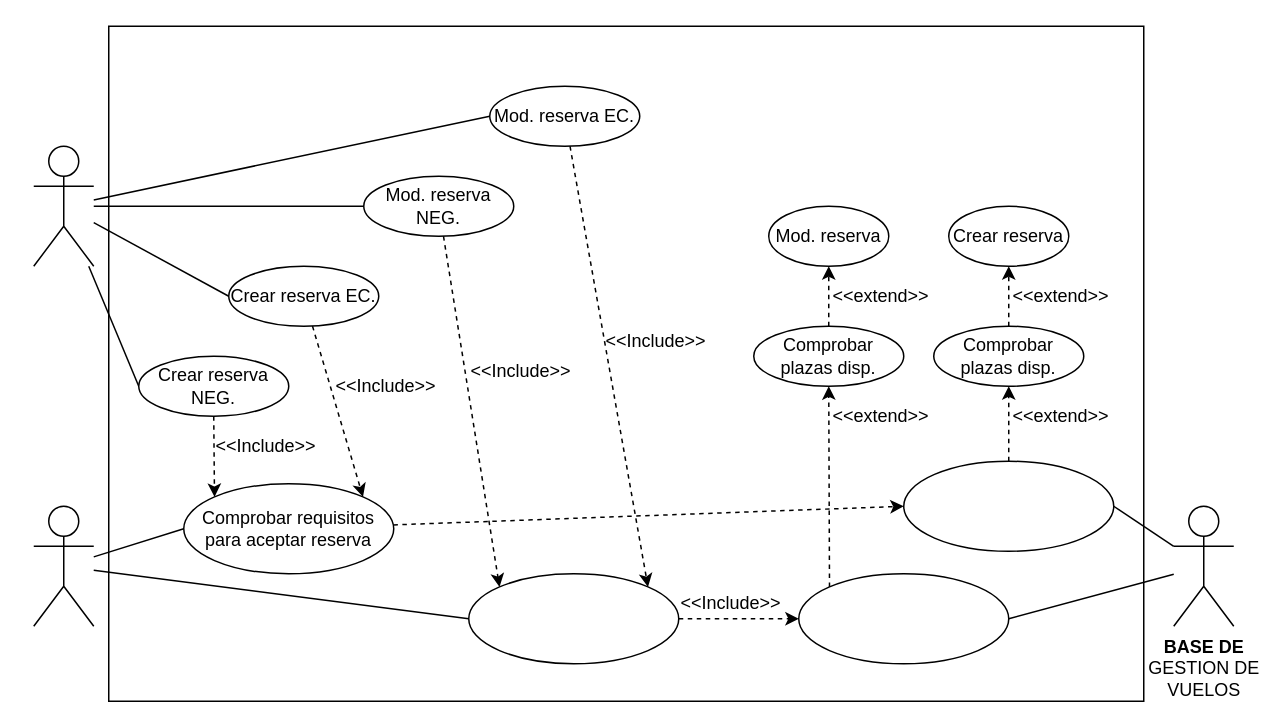
Image size: 1286x728. Some labels were removed from this diagram. Each missing label, with the box of its shape:
AGENTE: (32, 505, 94, 626)
Base de requisitos para aceptar mod.: (797, 572, 1009, 664)
Base de requisitos para aceptar reserva: (902, 460, 1114, 551)
CLIENTE: (32, 145, 94, 266)
Comprobar requisitos para aceptar mod.: (467, 572, 679, 664)
